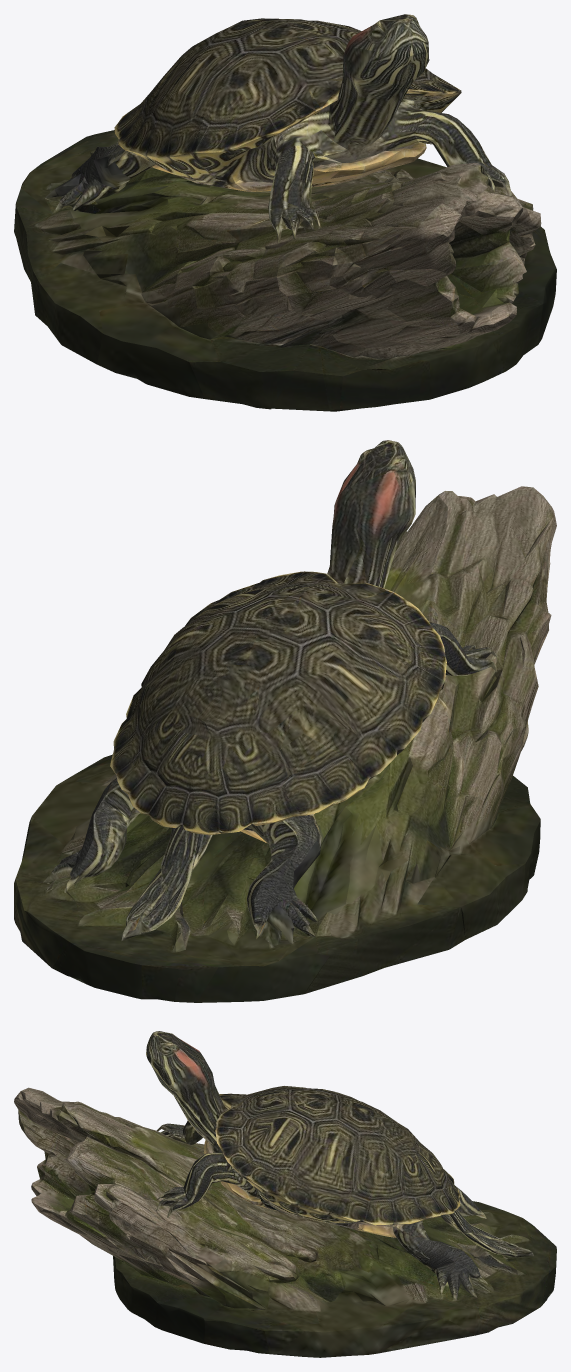
The model's file is sp_m_turtle.glb.
The picture shows the model from 3 angles, top to bottom: view 1: azimuth 30°, elevation 25°; view 2: azimuth 150°, elevation 25°; view 3: azimuth 270°, elevation 25°; orthographic projection. The views are drawn at different scales.
Parts seen in each view (by area): view 1: Mesh_0; view 2: Mesh_0; view 3: Mesh_0.
Boxes of the visible parts, <box> form: Mesh_0: <box>14,14,556,411</box>; Mesh_0: <box>14,440,556,1002</box>; Mesh_0: <box>14,1031,556,1357</box>.
Size of the model in its own units: 1.27 by 0.9616 by 1.9.
1 material, 1 textured.
